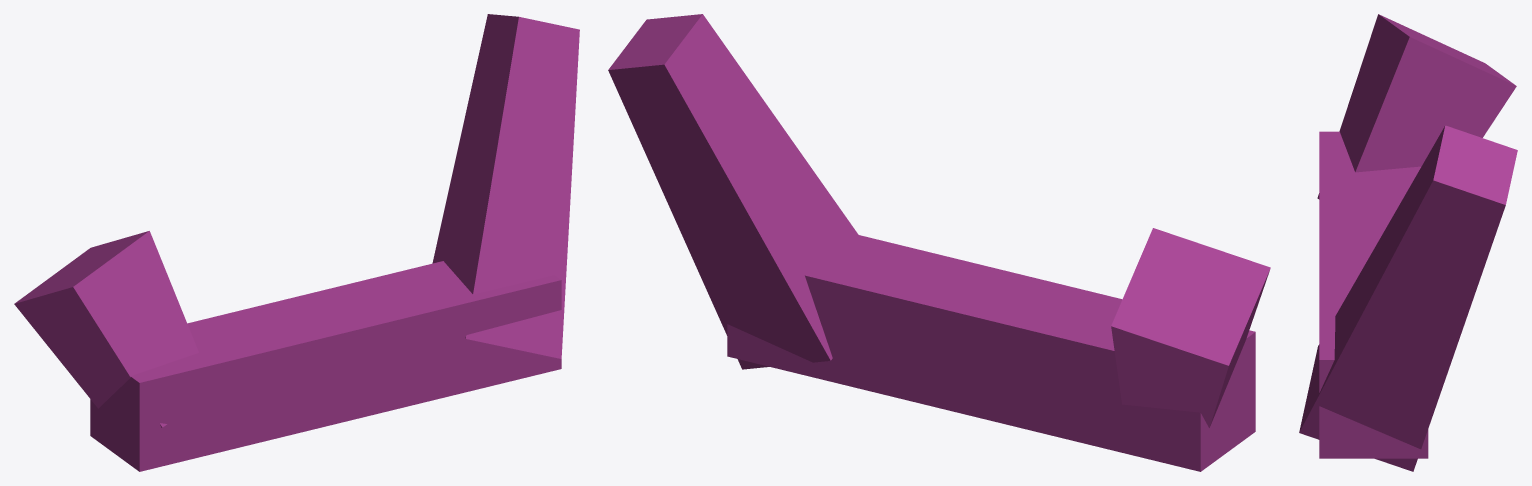
Rendered from SM_Veh_Scoop_01_SteeringWheel_01_Collision.fbx.
The picture shows the model from 3 angles, left to right: view 1: azimuth 30°, elevation 25°; view 2: azimuth 150°, elevation 25°; view 3: azimuth 270°, elevation 25°; orthographic projection. The views are drawn at different scales.
Visible parts, largest first — view 1: SM_Veh_Scoop_01_SteeringWheel_01_Collision; view 2: SM_Veh_Scoop_01_SteeringWheel_01_Collision; view 3: SM_Veh_Scoop_01_SteeringWheel_01_Collision.
Part boxes in pixels (bbox=[...]): SM_Veh_Scoop_01_SteeringWheel_01_Collision: bbox=[14, 14, 579, 471]; SM_Veh_Scoop_01_SteeringWheel_01_Collision: bbox=[608, 14, 1270, 471]; SM_Veh_Scoop_01_SteeringWheel_01_Collision: bbox=[1299, 14, 1517, 471].
Bounding box in the file's own units: 66.35 × 37.58 × 20.82.
